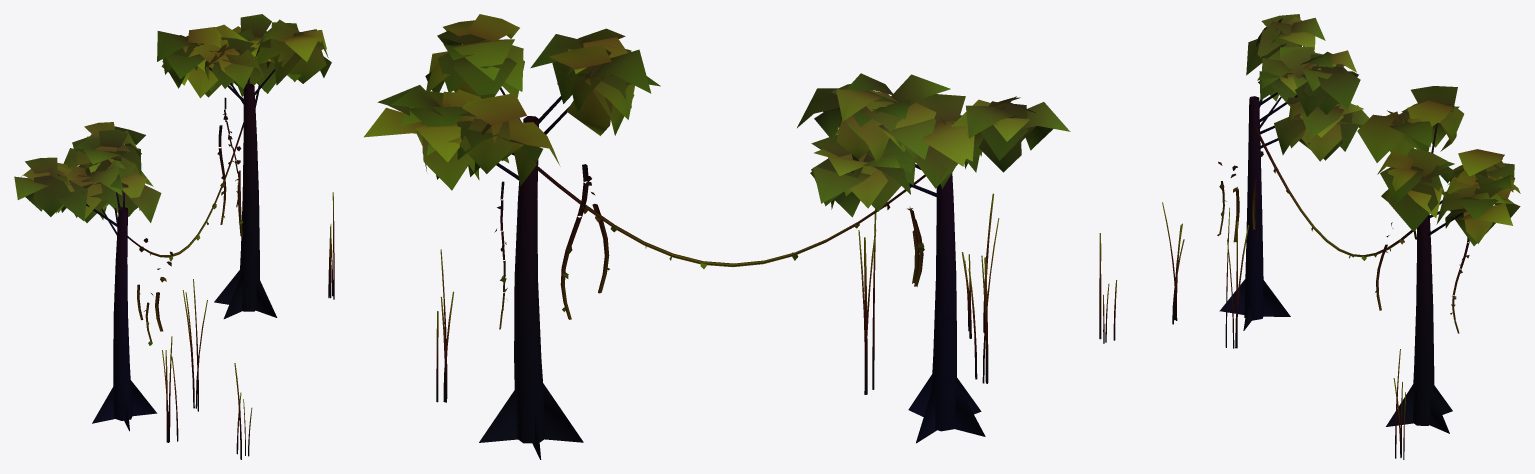
File: patch_scrub_far.glb
The picture shows the model from 3 angles, left to right: view 1: azimuth 30°, elevation 25°; view 2: azimuth 150°, elevation 25°; view 3: azimuth 270°, elevation 25°; orthographic projection. The views are drawn at different scales.
Visible parts, largest first — view 1: patch_scrub_far; view 2: patch_scrub_far; view 3: patch_scrub_far.
Boxes of the visible parts, x1,y1,x2,y2 form: patch_scrub_far: (14, 14, 334, 459); patch_scrub_far: (364, 14, 1070, 459); patch_scrub_far: (1099, 14, 1520, 459).
Size of the model in its own units: 17.39 by 12.25 by 15.71.
Materials: 1 (1 with a texture image).
